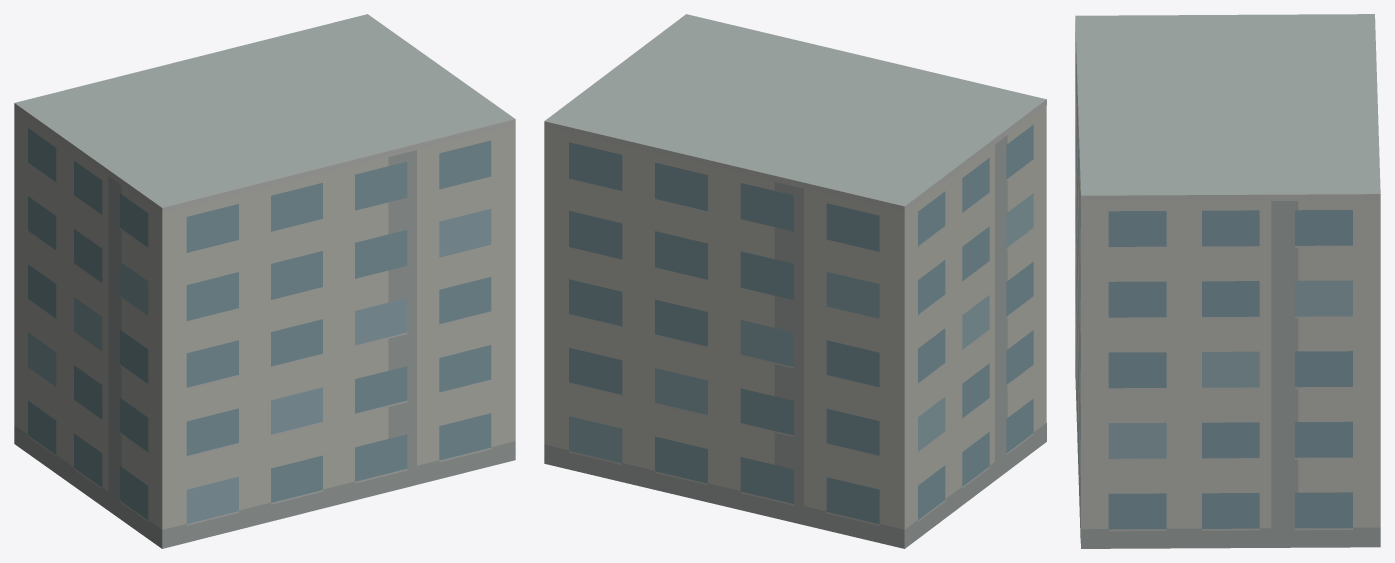
Rendered from survey-upis-32700873.glb.
3 renders of one model, left to right at view 1: azimuth 30°, elevation 25°; view 2: azimuth 150°, elevation 25°; view 3: azimuth 270°, elevation 25°, orthographic. The views are drawn at different scales.
Parts seen in each view (by area): view 1: survey-upis-32700873.tmp; view 2: survey-upis-32700873.tmp; view 3: survey-upis-32700873.tmp.
Boxes of the visible parts, x1=… form: survey-upis-32700873.tmp: x1=14, y1=14, x2=515, y2=548; survey-upis-32700873.tmp: x1=544, y1=14, x2=1046, y2=548; survey-upis-32700873.tmp: x1=1075, y1=14, x2=1380, y2=548.
Size of the model in its own units: 14.96 by 13.55 by 10.63.
